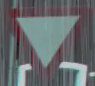Give way: (3, 3, 87, 74)
